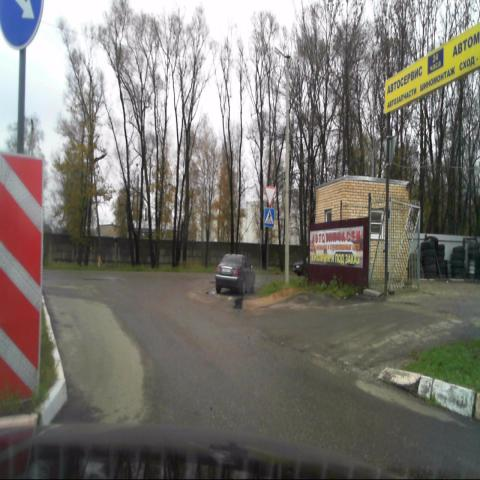2_4: (264, 186, 276, 207)
